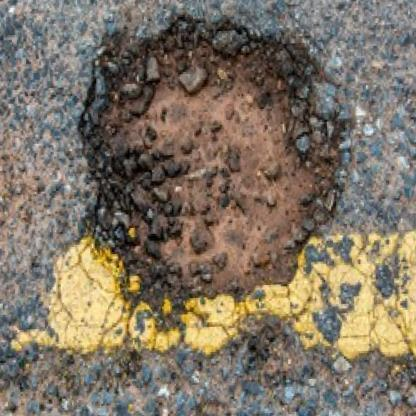pothole: (72, 7, 344, 299)
